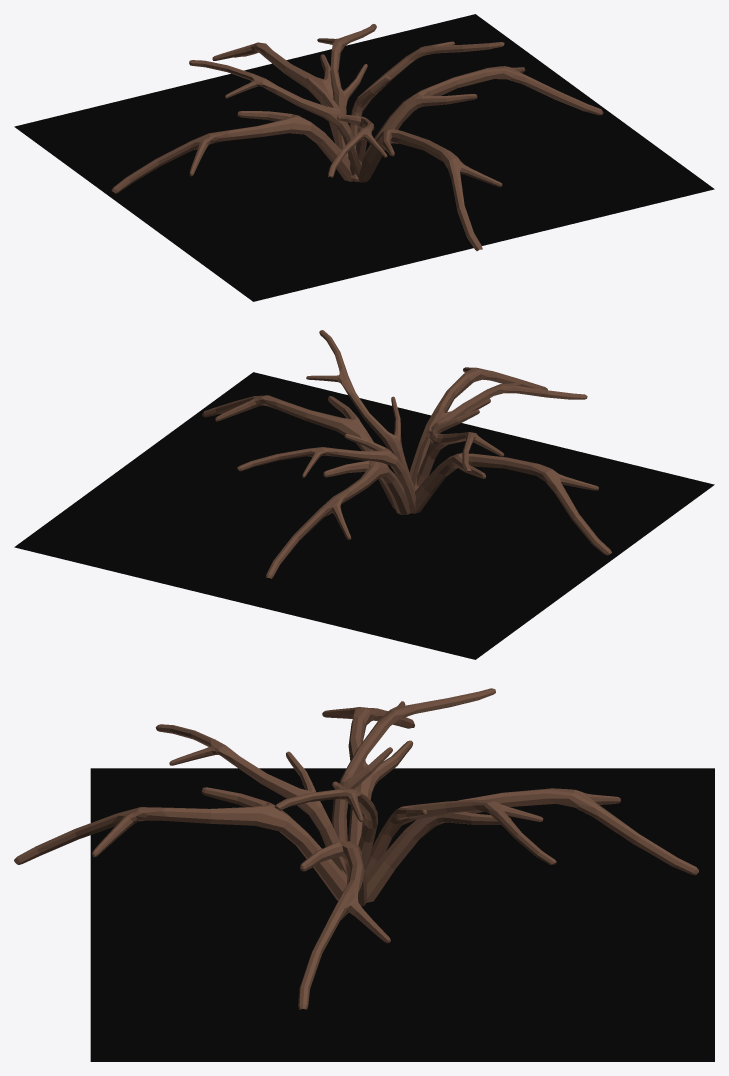
Rendered from SM_Env_BushDeath.fbx.
3 renders of one model, top to bottom at view 1: azimuth 30°, elevation 25°; view 2: azimuth 150°, elevation 25°; view 3: azimuth 270°, elevation 25°, orthographic. The views are drawn at different scales.
Visible parts, largest first — view 1: SM_Env_BushDeath; view 2: SM_Env_BushDeath; view 3: SM_Env_BushDeath.
Part boxes in pixels (x1,y1,x2,y2): SM_Env_BushDeath: (14,14,714,301); SM_Env_BushDeath: (14,330,714,659); SM_Env_BushDeath: (14,688,714,1061).
Bounding box in the file's own units: 88.73 × 24.37 × 85.99.
